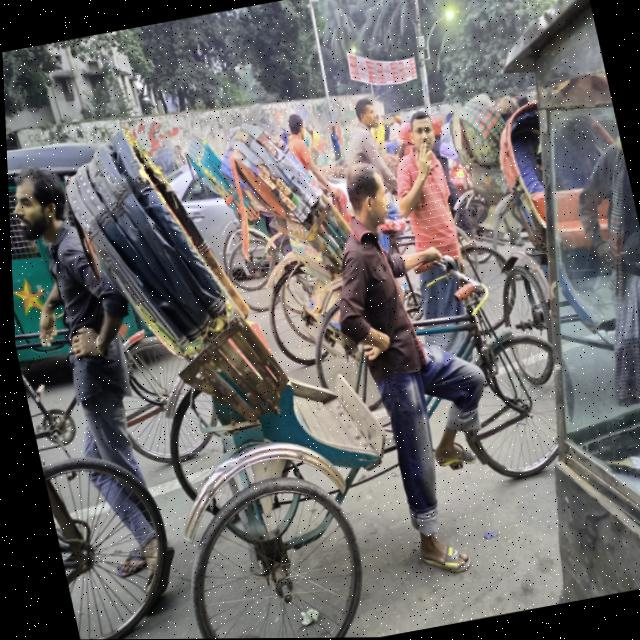rikshaw: (34, 82, 559, 640), (259, 81, 530, 344)
